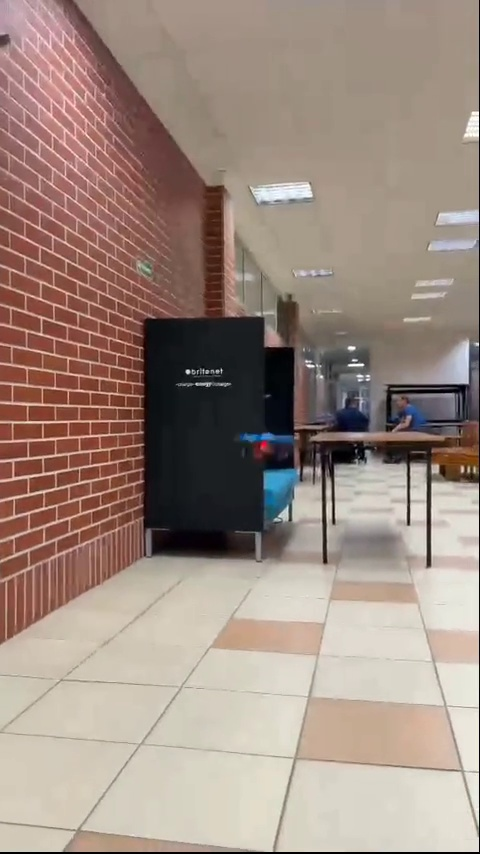drone: (239, 429, 294, 458)
no vest: (386, 386, 420, 439), (334, 391, 370, 438)
